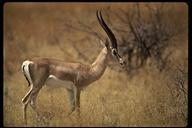antelope: (20, 8, 125, 122)
grass: (85, 92, 186, 124)
tree: (119, 4, 179, 48)
